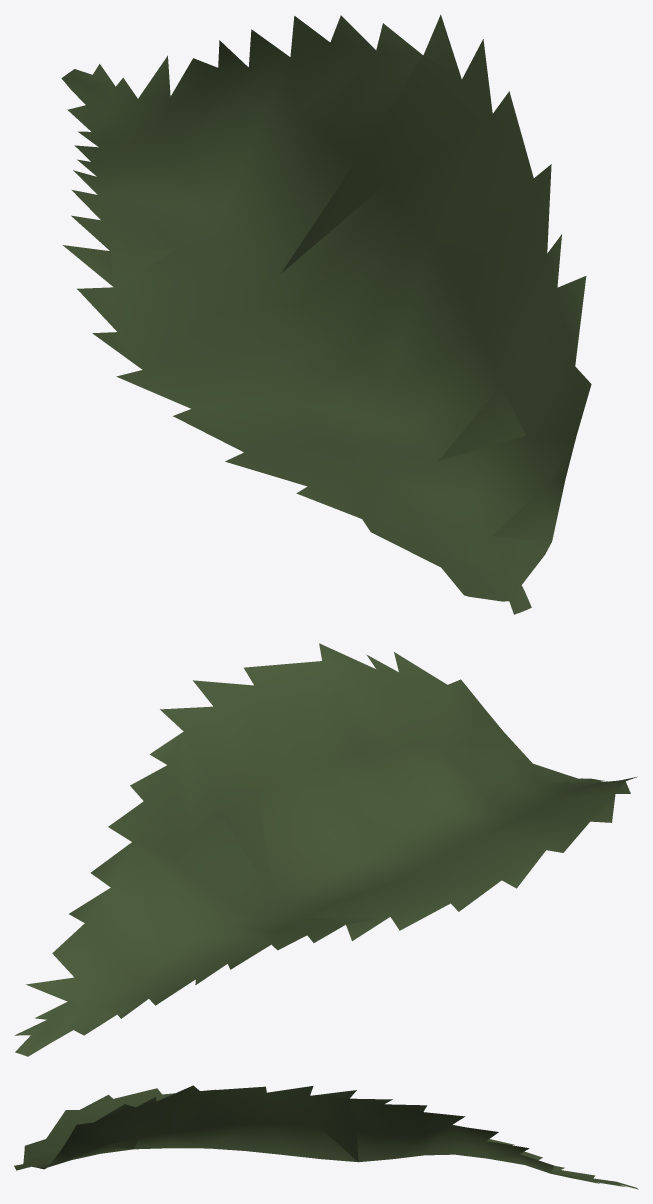
Rendered from trees-leaves-elm-leaf_v15.glb.
The picture shows the model from 3 angles, top to bottom: view 1: azimuth 30°, elevation 25°; view 2: azimuth 150°, elevation 25°; view 3: azimuth 270°, elevation 25°; orthographic projection. The views are drawn at different scales.
Visible parts, largest first — view 1: Elm Leaf_v15; view 2: Elm Leaf_v15; view 3: Elm Leaf_v15.
Part boxes in pixels (left/top/right/bottom): Elm Leaf_v15: left=61, top=14, right=591, bottom=614; Elm Leaf_v15: left=14, top=643, right=637, bottom=1056; Elm Leaf_v15: left=14, top=1085, right=638, bottom=1189.
Bounding box in the file's own units: 0.0384 × 0.0257 × 0.1.
